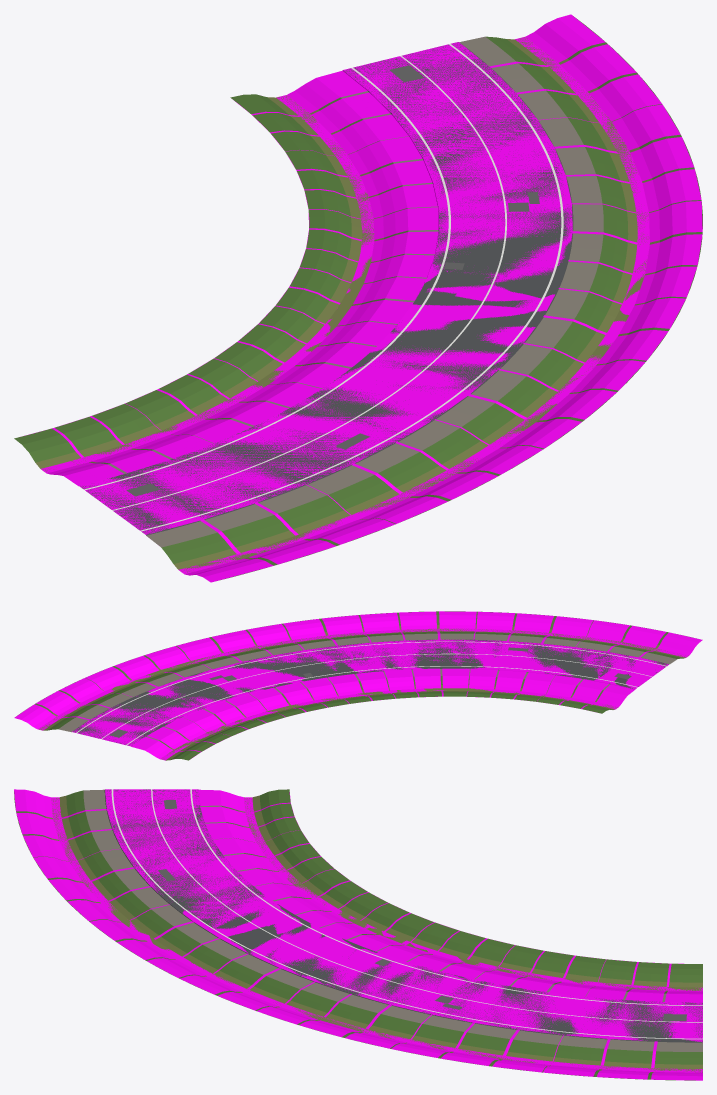
File: EN_Road_Country2_Curve90_R50.fbx
The picture shows the model from 3 angles, top to bottom: view 1: azimuth 30°, elevation 25°; view 2: azimuth 150°, elevation 25°; view 3: azimuth 270°, elevation 25°; orthographic projection. The views are drawn at different scales.
Visible parts, largest first — view 1: COL_DriveSurface, EN_Road_Country2_Curve90_R50_Surface, EN_Road_Country2_Curve90_R50_Markings, EN_Road_Country2_Curve90_R50_Patches; view 2: COL_DriveSurface, EN_Road_Country2_Curve90_R50_Surface, EN_Road_Country2_Curve90_R50_Markings, EN_Road_Country2_Curve90_R50_Patches; view 3: COL_DriveSurface, EN_Road_Country2_Curve90_R50_Surface, EN_Road_Country2_Curve90_R50_Markings, EN_Road_Country2_Curve90_R50_Patches.
Part boxes in pixels (<box>): COL_DriveSurface: <box>24,14,702,582</box>; EN_Road_Country2_Curve90_R50_Surface: <box>14,16,702,580</box>; EN_Road_Country2_Curve90_R50_Markings: <box>84,43,563,531</box>; EN_Road_Country2_Curve90_R50_Patches: <box>126,65,539,496</box>; COL_DriveSurface: <box>14,611,702,760</box>; EN_Road_Country2_Curve90_R50_Surface: <box>17,611,696,760</box>; EN_Road_Country2_Curve90_R50_Markings: <box>76,641,666,745</box>; EN_Road_Country2_Curve90_R50_Patches: <box>109,647,631,737</box>; COL_DriveSurface: <box>14,789,702,1080</box>; EN_Road_Country2_Curve90_R50_Surface: <box>14,789,702,1080</box>; EN_Road_Country2_Curve90_R50_Markings: <box>111,789,702,1039</box>; EN_Road_Country2_Curve90_R50_Patches: <box>158,800,686,1021</box>.
Bounding box in the file's own units: 62.5 × 0.785 × 62.5.
